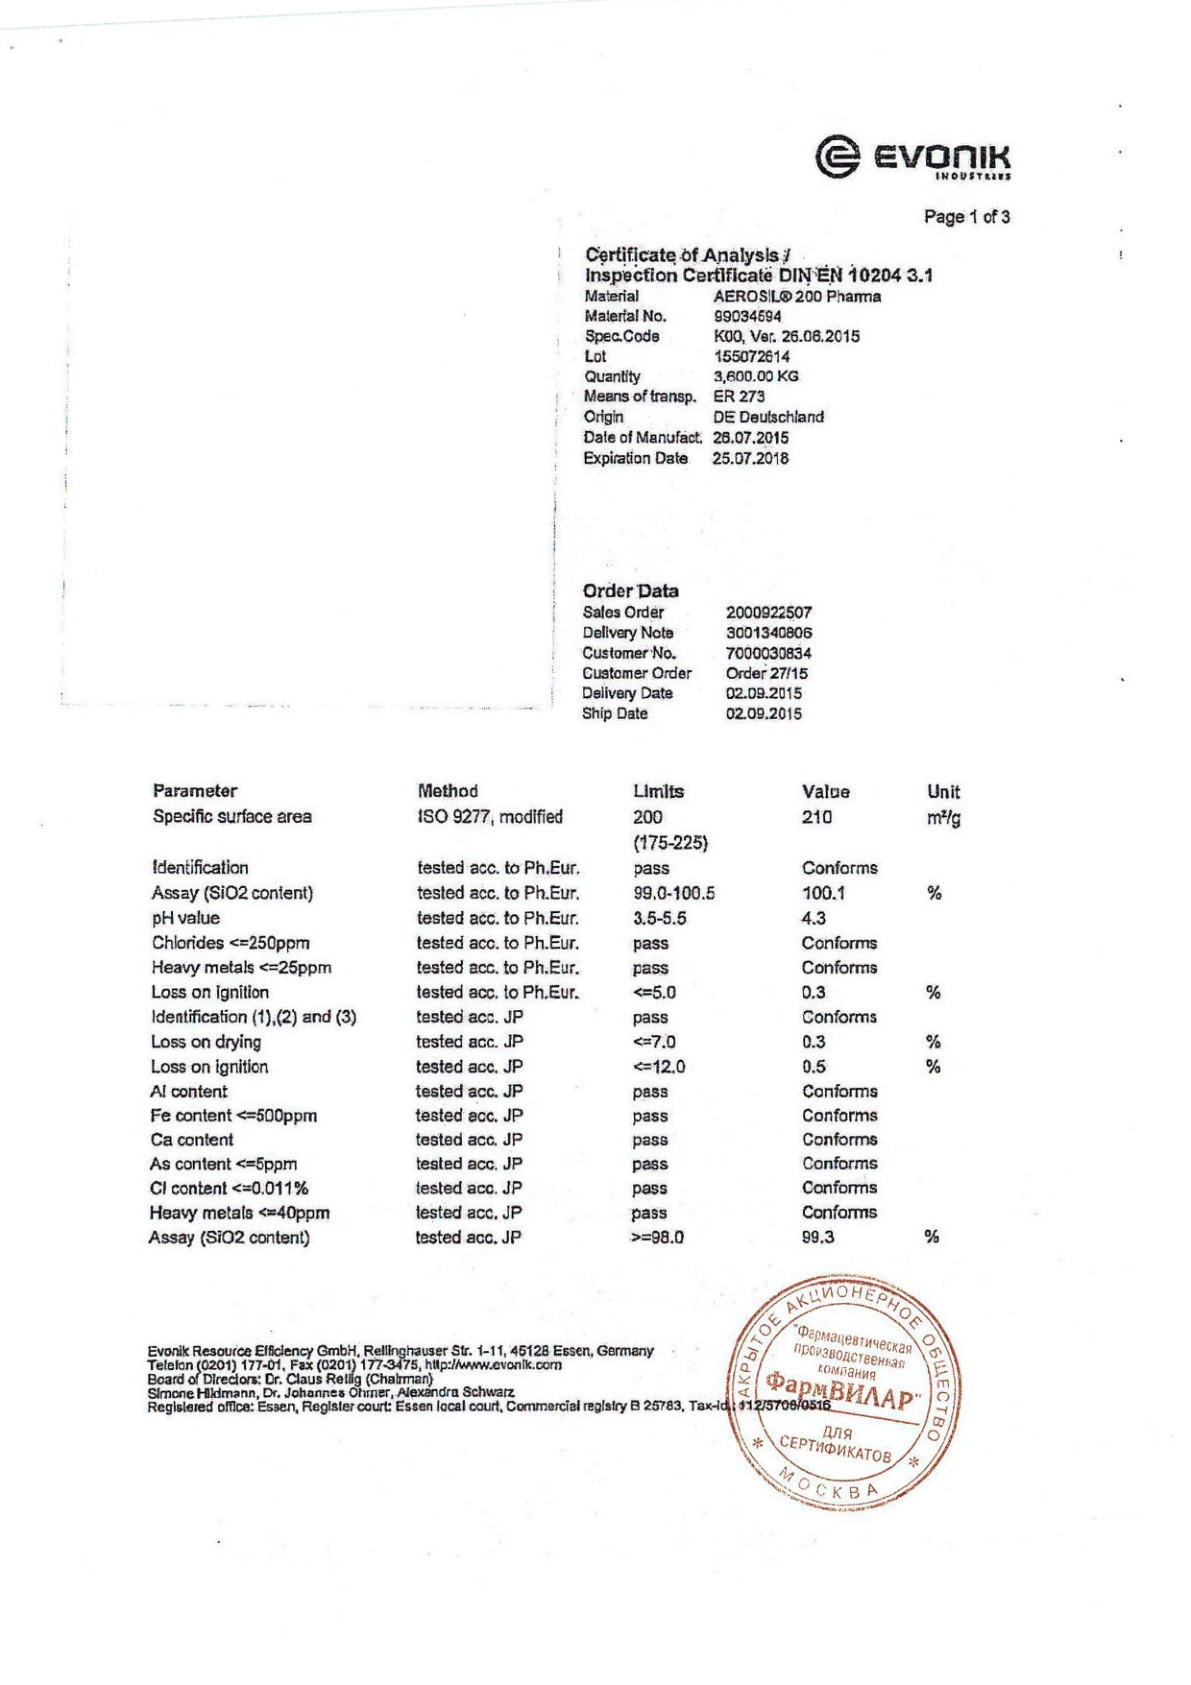nolines: (146, 781, 965, 1251), (579, 237, 937, 471), (577, 579, 815, 726)
